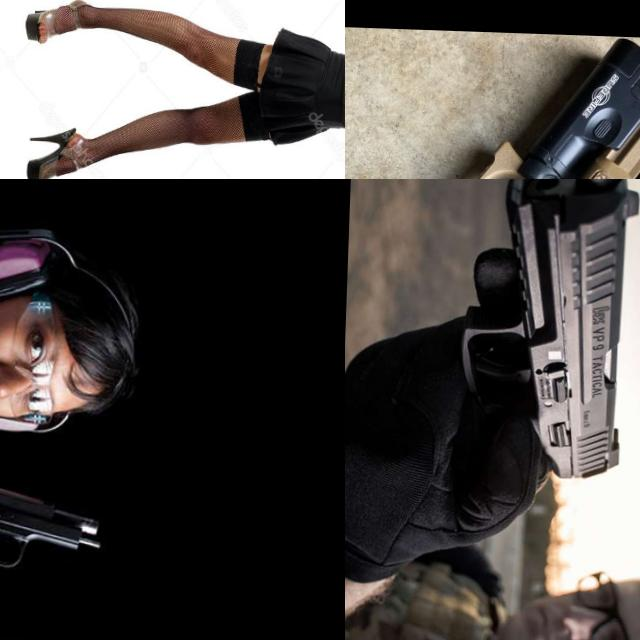handgun: (447, 179, 640, 485), (345, 19, 640, 179), (0, 453, 106, 578)
